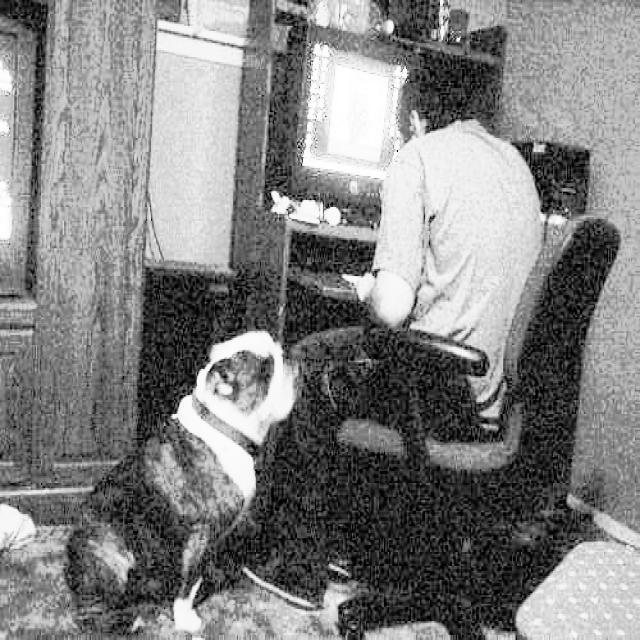Dog: (41, 303, 290, 640)
